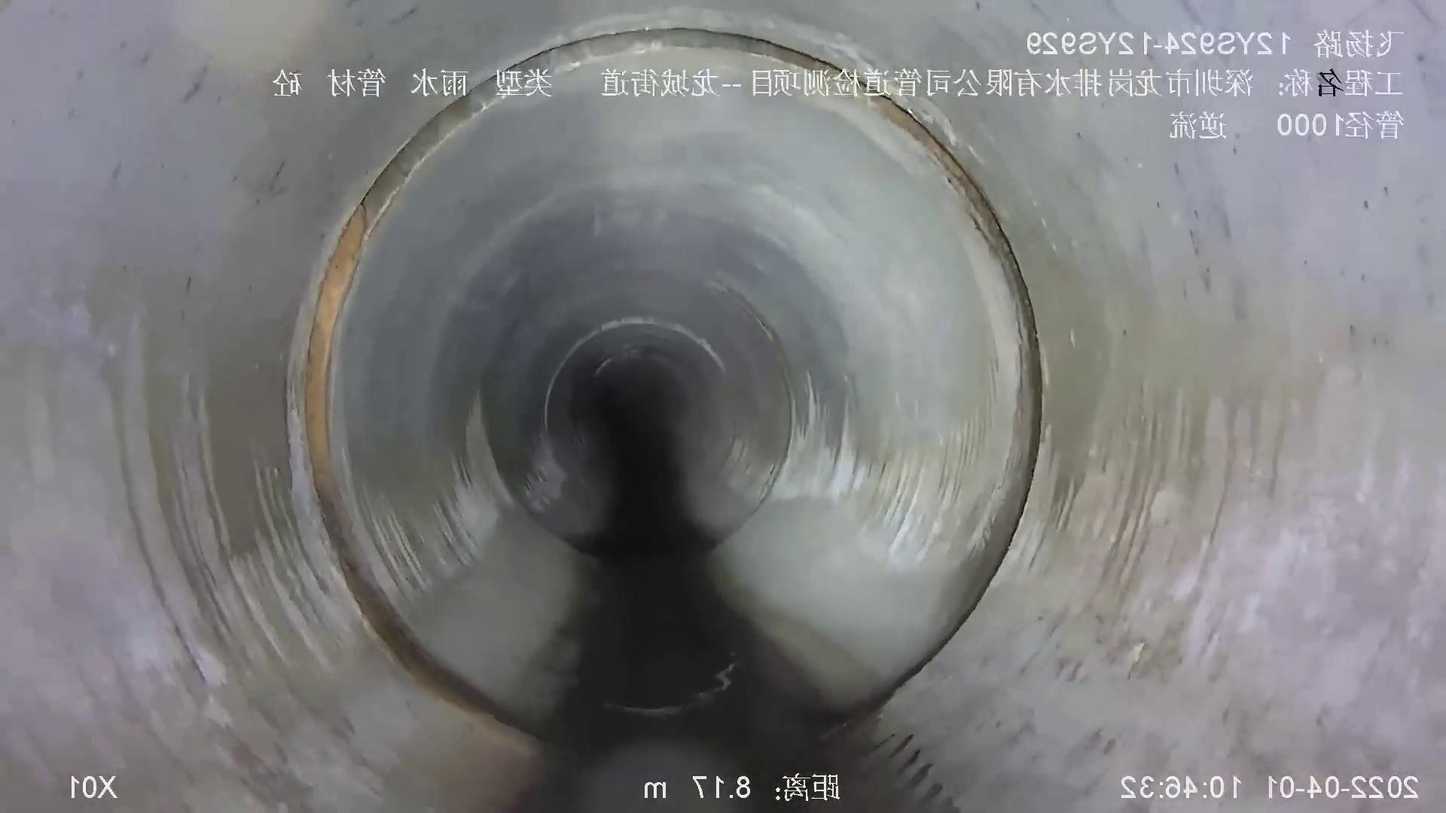CKTJ: (509, 28, 1042, 713), (299, 72, 521, 729)
